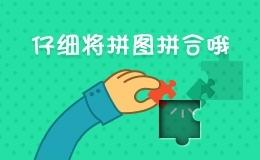target: (139, 81, 180, 119)
